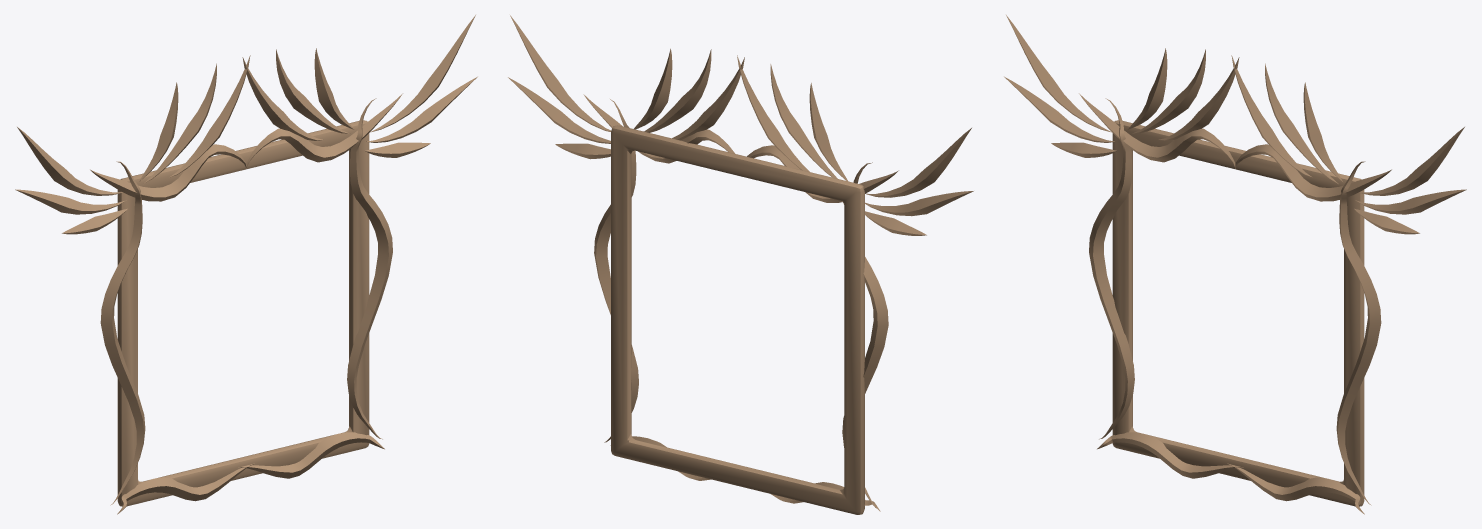
File: Antique Photo Frame.fbx
The picture shows the model from 3 angles, left to right: view 1: azimuth 30°, elevation 25°; view 2: azimuth 150°, elevation 25°; view 3: azimuth 330°, elevation 25°; orthographic projection.
Parts seen in each view (by area): view 1: Frame.001; view 2: Frame.001; view 3: Frame.001.
Part boxes in pixels (x1,y1,x2,y2): Frame.001: (15, 15, 477, 514); Frame.001: (508, 15, 973, 514); Frame.001: (1004, 15, 1466, 514).
Bounding box in the file's own units: 121 × 108 × 5.26.
